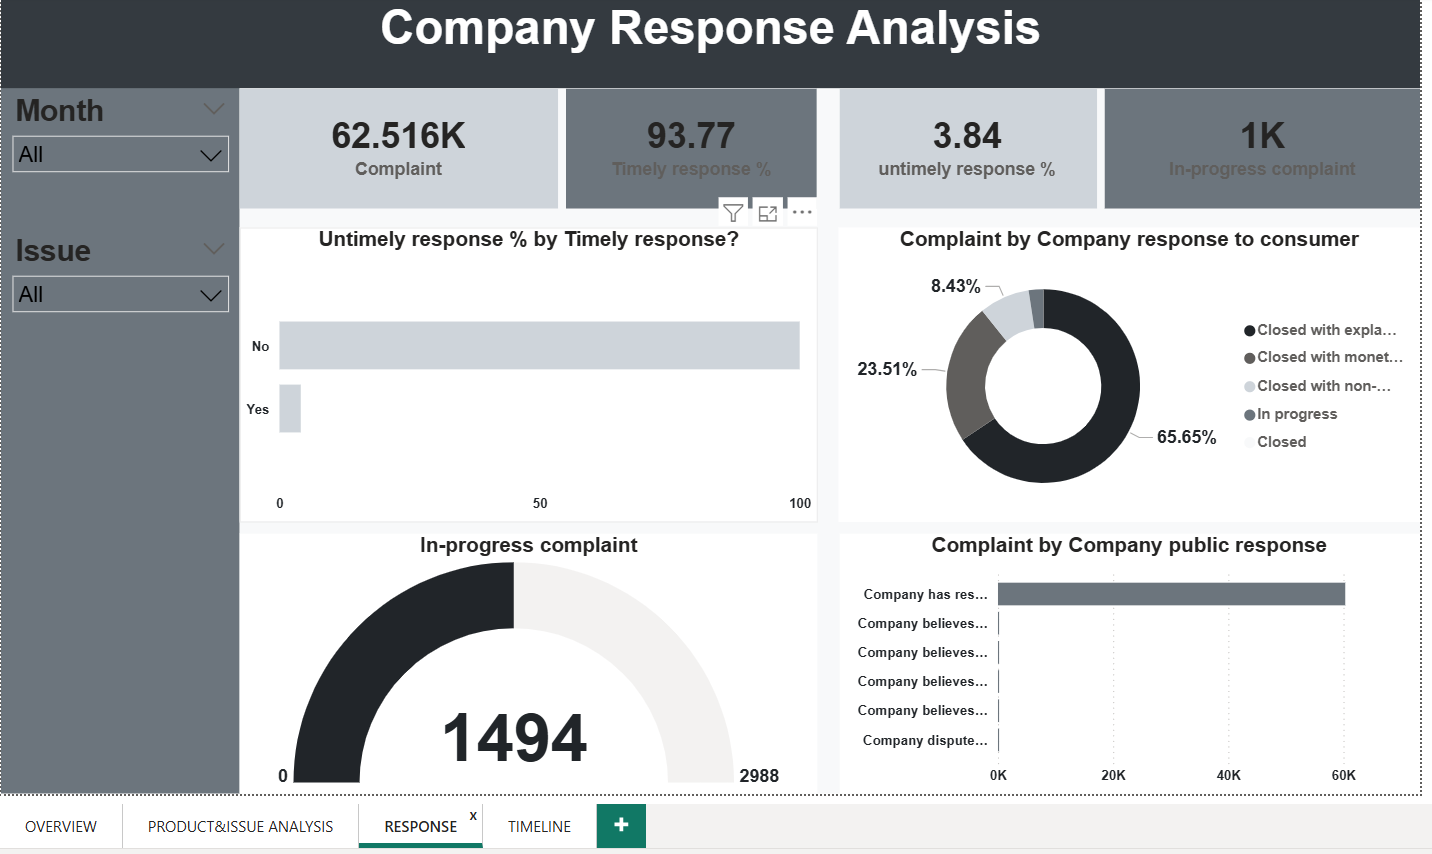

This screenshot's page, from the dashboard's own definition file:
{"tool":"powerbi","page":{"name":"RESPONSE","canvas":[1280,720],"ordinal":2},"visuals":[{"type":"shape","box":[0,0,1280,720],"z":0},{"type":"shape","box":[0,0,215,720],"z":1000},{"type":"shape","box":[0,0,1280,84],"z":2000},{"type":"shape","box":[215,84,287,108],"z":3000},{"type":"shape","box":[995,84,285,108],"z":4000},{"type":"shape","box":[510,84,226,108],"z":5000},{"type":"shape","box":[756,84,232,108],"z":6000},{"type":"shape","box":[215,486,521,234],"z":7000},{"type":"shape","box":[215,210,521,265],"z":8000},{"type":"shape","box":[755.6,210,524.4,265.6],"z":9000},{"type":"shape","box":[756,486,524,234],"z":10000},{"type":"cardVisual","fields":{"Data":["Data.untimely response %"]},"box":[755.6,84.4,232.2,107.8],"z":11000},{"type":"cardVisual","fields":{"Data":["CountNonNull(Data.Complaint ID)"]},"box":[215.6,84.4,286.7,107.8],"z":12000},{"type":"cardVisual","fields":{"Data":["Data.timely response percent"]},"box":[510,84.4,226.7,107.8],"z":13000},{"type":"cardVisual","fields":{"Data":["Data.in progress complaint"]},"box":[995.6,84.4,284.4,107.8],"z":14000},{"type":"donutChart","fields":{"Category":["Data.Company response to consumer"],"Y":["CountNonNull(Data.Complaint ID)"]},"box":[755.6,210,524.4,265.6],"z":15000},{"type":"barChart","fields":{"Category":["Data.Timely response?"],"Y":["Data.untimely response %"]},"box":[215.6,210,521.1,265.6],"z":16000},{"type":"gauge","title":"In-progress complaint","fields":{"Y":["Data.in progress complaint"]},"box":[215.6,485.6,521.1,234.4],"z":17000},{"type":"clusteredBarChart","fields":{"Category":["Data.Company public response"],"Y":["CountNonNull(Data.Complaint ID)"]},"box":[755.6,485.6,524.4,234.4],"z":18000},{"type":"textbox","box":[0,0,1280,84.4],"z":19000},{"type":"slicer","fields":{"Values":["Data.Date submitted.Variation.Date Hierarchy.Month"]},"box":[0,84.4,215.2,126],"z":20000},{"type":"slicer","fields":{"Values":["Data.Issue"]},"box":[0,210.3,215.2,149.2],"z":21000}]}

Visuals, with their boxes on the page's 1280x720 design canvas (x1, y1, x2, y2). These are canvas units, not pixel positions in the 1432x854 screenshot, which may show the page scaled, cropped or inside an application window:
shape: 0 0 1280 720
shape: 0 0 215 720
shape: 0 0 1280 84
shape: 215 84 502 192
shape: 995 84 1280 192
shape: 510 84 736 192
shape: 756 84 988 192
shape: 215 486 736 720
shape: 215 210 736 475
shape: 756 210 1280 476
shape: 756 486 1280 720
cardVisual - Data.untimely response %: 756 84 988 192
cardVisual - CountNonNull(Data.Complaint ID): 216 84 502 192
cardVisual - Data.timely response percent: 510 84 737 192
cardVisual - Data.in progress complaint: 996 84 1280 192
donutChart - Data.Company response to consumer x CountNonNull(Data.Complaint ID): 756 210 1280 476
barChart - Data.Timely response? x Data.untimely response %: 216 210 737 476
"In-progress complaint" gauge: 216 486 737 720
clusteredBarChart - Data.Company public response x CountNonNull(Data.Complaint ID): 756 486 1280 720
textbox: 0 0 1280 84
slicer - Data.Date submitted.Variation.Date Hierarchy.Month: 0 84 215 210
slicer - Data.Issue: 0 210 215 360
